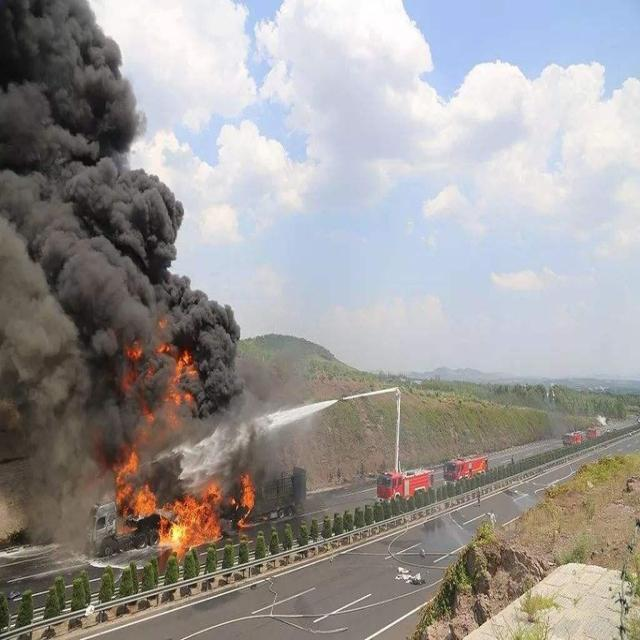fire: (128, 317, 198, 426), (158, 486, 225, 556), (111, 447, 157, 528), (232, 467, 256, 528)
other: (370, 458, 434, 507), (442, 451, 485, 488), (561, 421, 597, 446)
smoke: (4, 2, 100, 334), (8, 338, 113, 484), (124, 174, 178, 312), (102, 89, 127, 317), (197, 308, 238, 404)
